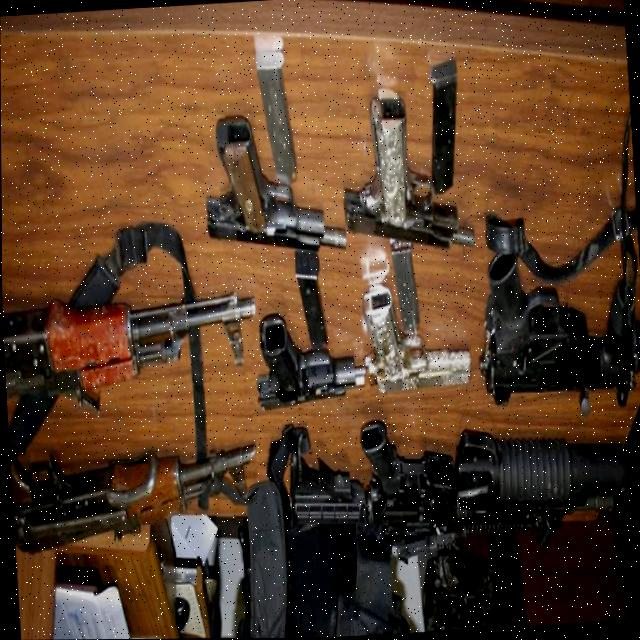firearm: (284, 404, 631, 570), (2, 259, 262, 424), (7, 401, 262, 558), (471, 243, 640, 419)
pistol: (336, 76, 478, 261), (200, 109, 348, 261), (360, 279, 472, 397), (251, 310, 368, 413)
rocket: (451, 418, 628, 508)
